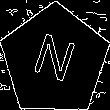N_S: (29, 31, 81, 90)
